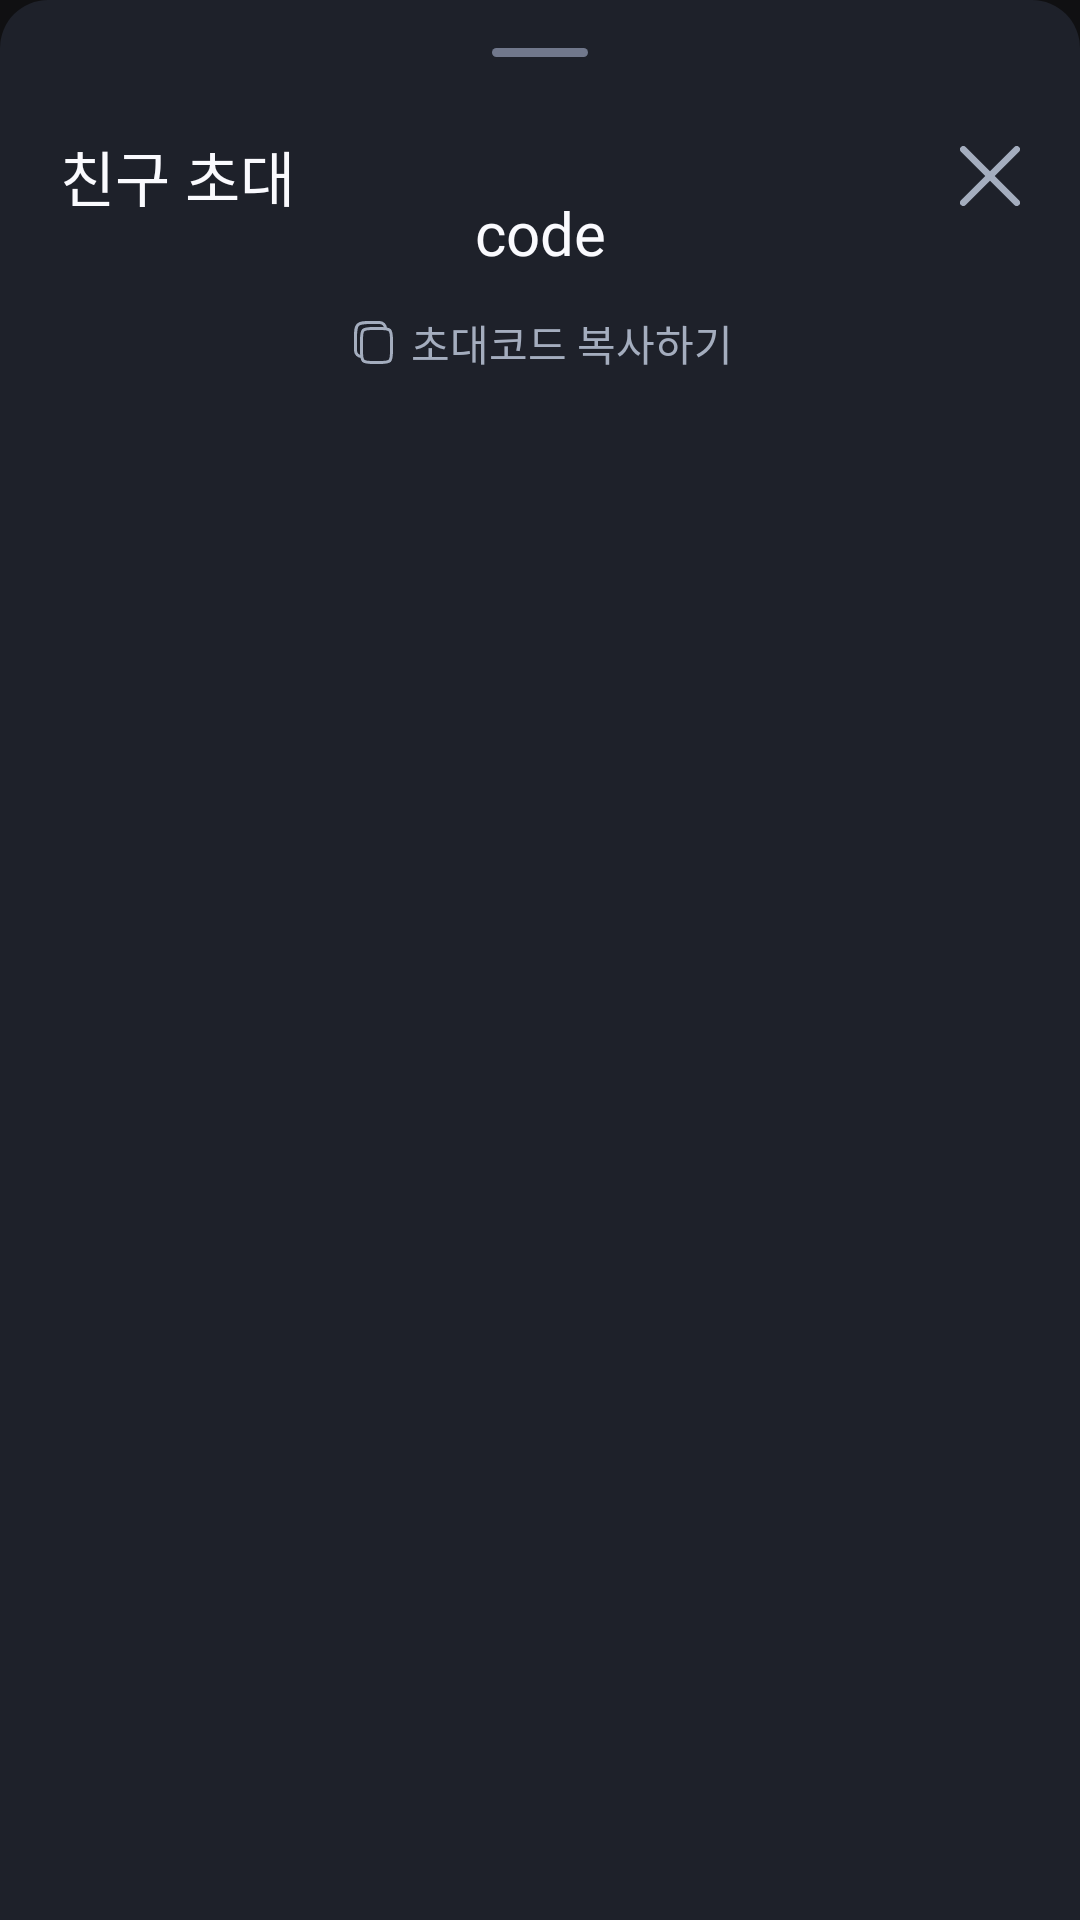

Locate icon controls on the screen. Image size 1080*1920, boxes as Rect(x1, y1, x2, y2).
close: Rect(960, 146, 1020, 206)
